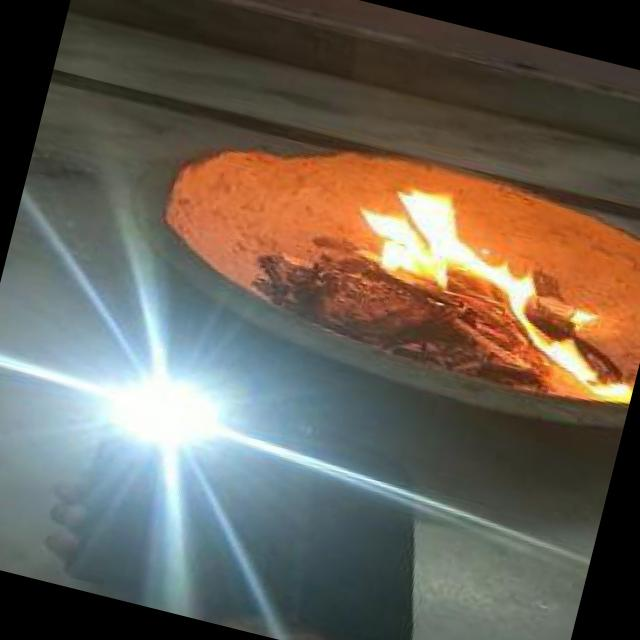fire: (317, 168, 640, 401)
